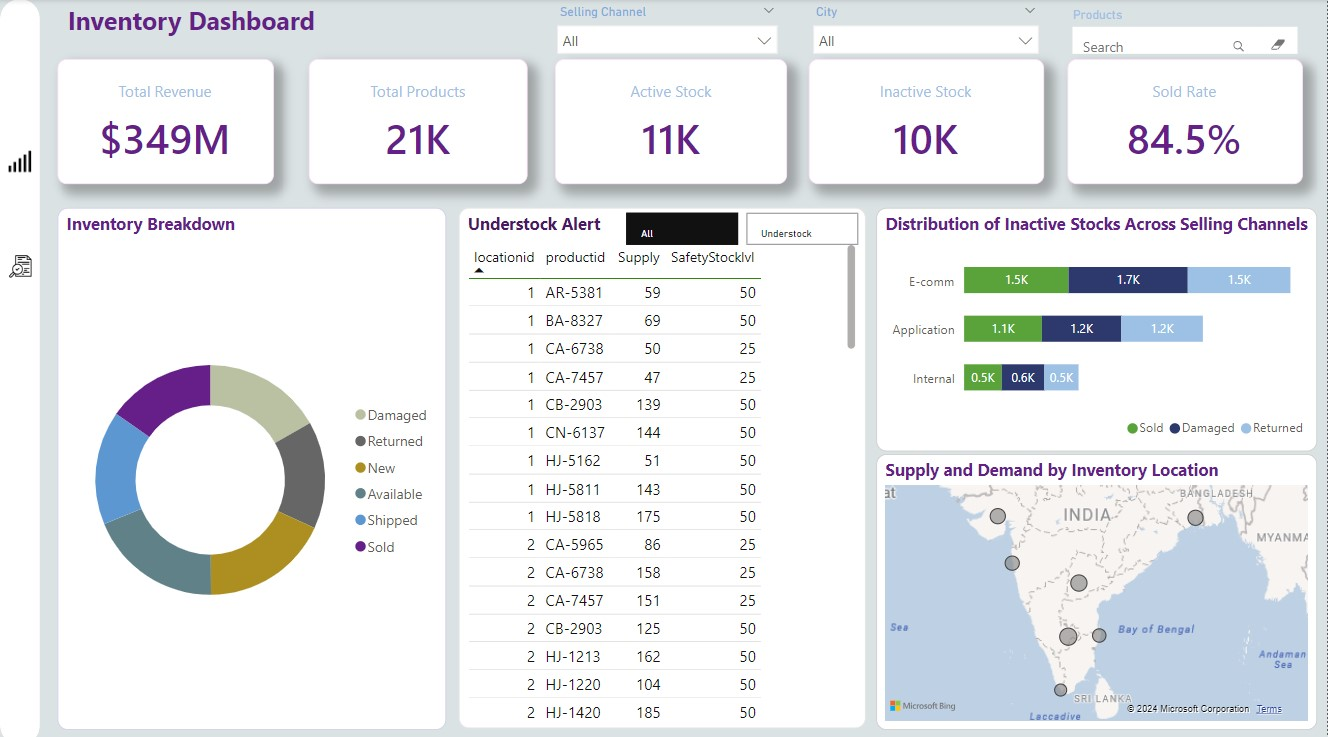

What the dashboard file says about the page in this screenshot:
{"tool":"powerbi","page":{"name":"Dashboard","canvas":[1280,720],"ordinal":0},"visuals":[{"type":"shape","box":[0,0,38.6,720.2],"z":0},{"type":"textbox","box":[60.3,0,475.3,57.9],"z":1000},{"type":"cardVisual","fields":{"Data":["invfile1.tot_invfile1"]},"box":[298,57.9,211.1,120.6],"z":2000},{"type":"cardVisual","fields":{"Data":["invfile1.tot_revenue"]},"box":[55.5,57.9,208.7,120.6],"z":3000},{"type":"cardVisual","fields":{"Data":["invfile1.avaialbility_count"]},"box":[535.7,57.9,224.4,120.6],"z":4000},{"type":"cardVisual","fields":{"Data":["invfile1.inactive_stock"]},"box":[780.6,57.9,226.8,120.6],"z":5000},{"type":"cardVisual","fields":{"Data":["invfile1.sell_rate"]},"box":[1030.3,57.9,226.8,120.6],"z":6000},{"type":"donutChart","title":"Inventory Breakdown","fields":{"Y":["invfile1.damaged_qty","invfile1.returned_qty","invfile1.new_qty","invfile1.available_qty","invfile1.shipped_qty","invfile1.sold_qty"]},"box":[55.5,201.5,375.2,504.3],"z":7000},{"type":"barChart","title":"Distribution of Inactive Stocks Across Selling Channels","fields":{"Category":["schfile1.name"],"Y":["invfile1.sold_qty","invfile1.damaged_qty","invfile1.returned_qty"]},"box":[845.7,201.5,425.9,235.3],"z":8000},{"type":"map","title":"Supply and Demand by Inventory Location","fields":{"Category":["locfile1.description"],"Size":["invfile1.sd_bubble"]},"box":[845.7,439.1,425.9,266.6],"z":9000},{"type":"tableEx","title":"Understock Alert","fields":{"Values":["Transform.locationid","Transform.productid","prodfile1.t_supply","Transform.mod_safstocklvl"]},"box":[443.2,201.7,392.5,502.2],"z":10000},{"type":"advancedSlicerVisual","fields":{"Values":["slice_tb.Value"]},"box":[599.6,201.5,235.3,41],"z":11000},{"type":"slicer","fields":{"Values":["schfile1.name"]},"box":[527.2,0,232.8,57.9],"z":12000},{"type":"slicer","fields":{"Values":["locfile1.description"]},"box":[774.5,0,237.7,57.9],"z":13000},{"type":"textFilter25A4896A83E0487089E2B90C9AE57C8A","title":"Products","fields":{"field":["prodfile1.proddesc"]},"box":[1030.3,8.4,226.8,49.5],"z":14000},{"type":"image","box":[0,242.5,38.6,31.4],"z":15000},{"type":"image","box":[0,135.1,38.6,43.4],"z":16000}]}

Visuals, with their boxes on the page's 1280x720 design canvas (x1, y1, x2, y2). These are canvas units, not pixel positions in the 1328x737 screenshot, which may show the page scaled, cropped or inside an application window:
shape: BBox(0, 0, 39, 720)
textbox: BBox(60, 0, 536, 58)
cardVisual - invfile1.tot_invfile1: BBox(298, 58, 509, 178)
cardVisual - invfile1.tot_revenue: BBox(56, 58, 264, 178)
cardVisual - invfile1.avaialbility_count: BBox(536, 58, 760, 178)
cardVisual - invfile1.inactive_stock: BBox(781, 58, 1007, 178)
cardVisual - invfile1.sell_rate: BBox(1030, 58, 1257, 178)
"Inventory Breakdown" donutChart: BBox(56, 202, 431, 706)
"Distribution of Inactive Stocks Across Selling Channels" barChart: BBox(846, 202, 1272, 437)
"Supply and Demand by Inventory Location" map: BBox(846, 439, 1272, 706)
"Understock Alert" tableEx: BBox(443, 202, 836, 704)
advancedSlicerVisual - slice_tb.Value: BBox(600, 202, 835, 242)
slicer - schfile1.name: BBox(527, 0, 760, 58)
slicer - locfile1.description: BBox(774, 0, 1012, 58)
"Products" textFilter25A4896A83E0487089E2B90C9AE57C8A: BBox(1030, 8, 1257, 58)
image: BBox(0, 242, 39, 274)
image: BBox(0, 135, 39, 178)
